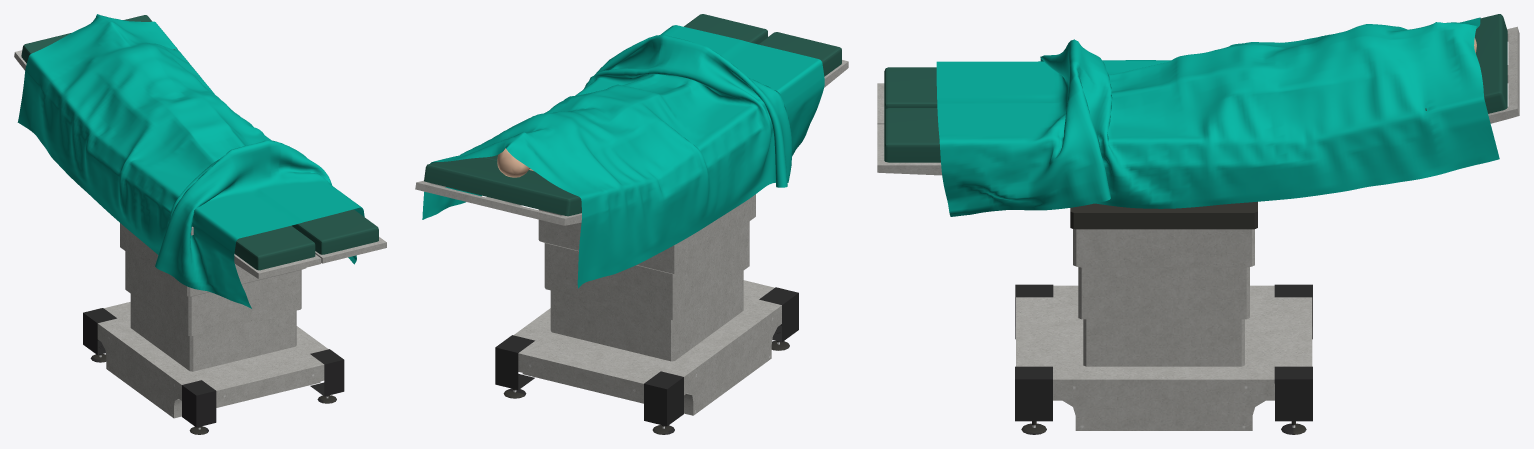
The model's file is movement.glb.
3 views of the same model, side by side, from view 1: azimuth 30°, elevation 25°; view 2: azimuth 150°, elevation 25°; view 3: azimuth 270°, elevation 25° (orthographic). The views are drawn at different scales.
Visible parts, largest first — view 1: Bedsheet, Surgery_Table_pCube1, Surgery_Table_bottom_1, Surgery_Table_pCube8, Surgery_Table_pCube12, Surgery_Table_pCube5, Surgery_Table_bottom_5, Surgery_Table_bottom_2, Surgery_Table_bottom_4, Surgery_Table_pCube11; view 2: Bedsheet, Surgery_Table_pCube1, Surgery_Table_bottom_1, Surgery_Table_pCube11, Surgery_Table_bottom_4, Surgery_Table_pCube6, Surgery_Table_pCube8, Surgery_Table_bottom_3, Surgery_Table_pCube12, Surgery_Table_bottom_5, Body; view 3: Bedsheet, Surgery_Table_pCube1, Surgery_Table_bottom_1, Surgery_Table_pCube12, Surgery_Table_pCube11, Surgery_Table_pCube8, Surgery_Table_bottom_3, Surgery_Table_bottom_2, Surgery_Table_pCube5, Surgery_Table_pCube6.
Part boxes in pixels (bbox=[...]): Bedsheet: bbox=[17, 14, 364, 308]; Surgery_Table_pCube1: bbox=[120, 223, 305, 371]; Surgery_Table_bottom_1: bbox=[97, 302, 328, 418]; Surgery_Table_pCube8: bbox=[234, 225, 315, 270]; Surgery_Table_pCube12: bbox=[292, 209, 378, 254]; Surgery_Table_pCube5: bbox=[234, 237, 386, 278]; Surgery_Table_bottom_5: bbox=[182, 380, 216, 427]; Surgery_Table_bottom_2: bbox=[310, 349, 344, 396]; Surgery_Table_bottom_4: bbox=[83, 308, 116, 354]; Surgery_Table_pCube11: bbox=[21, 15, 175, 63]; Bedsheet: bbox=[422, 25, 824, 288]; Surgery_Table_pCube1: bbox=[538, 194, 755, 361]; Surgery_Table_bottom_1: bbox=[514, 280, 781, 415]; Surgery_Table_pCube11: bbox=[424, 157, 581, 216]; Surgery_Table_bottom_4: bbox=[644, 371, 683, 426]; Surgery_Table_pCube6: bbox=[415, 180, 581, 225]; Surgery_Table_pCube8: bbox=[758, 32, 841, 76]; Surgery_Table_bottom_3: bbox=[495, 335, 534, 389]; Surgery_Table_pCube12: bbox=[684, 14, 767, 44]; Surgery_Table_bottom_5: bbox=[759, 287, 798, 341]; Body: bbox=[497, 148, 533, 177]; Bedsheet: bbox=[936, 17, 1499, 216]; Surgery_Table_pCube1: bbox=[1070, 201, 1257, 366]; Surgery_Table_bottom_1: bbox=[1016, 285, 1312, 430]; Surgery_Table_pCube12: bbox=[884, 108, 940, 162]; Surgery_Table_pCube11: bbox=[1425, 14, 1507, 113]; Surgery_Table_pCube8: bbox=[884, 67, 937, 111]; Surgery_Table_bottom_3: bbox=[1274, 366, 1312, 421]; Surgery_Table_bottom_2: bbox=[1015, 366, 1052, 421]; Surgery_Table_pCube5: bbox=[877, 83, 942, 175]; Surgery_Table_pCube6: bbox=[1488, 26, 1519, 123].
Size of the model in its own units: 1.16 by 1.82 by 2.88.
Materials: 3 (1 with a texture image).
